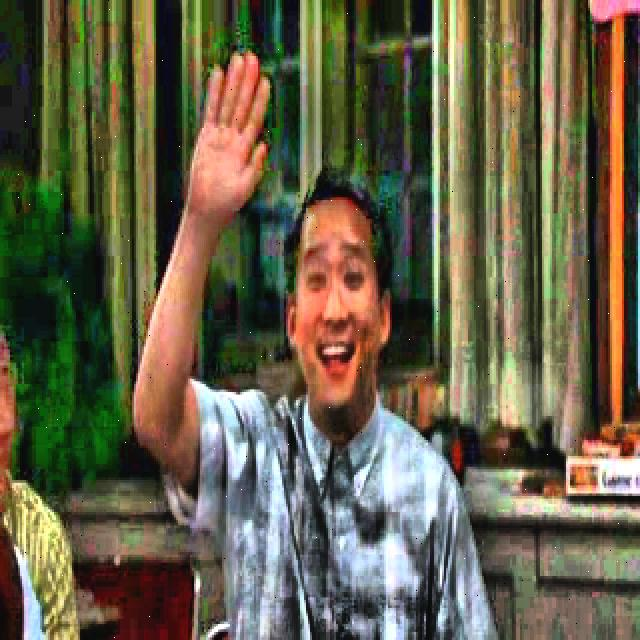T: (116, 34, 502, 640)
